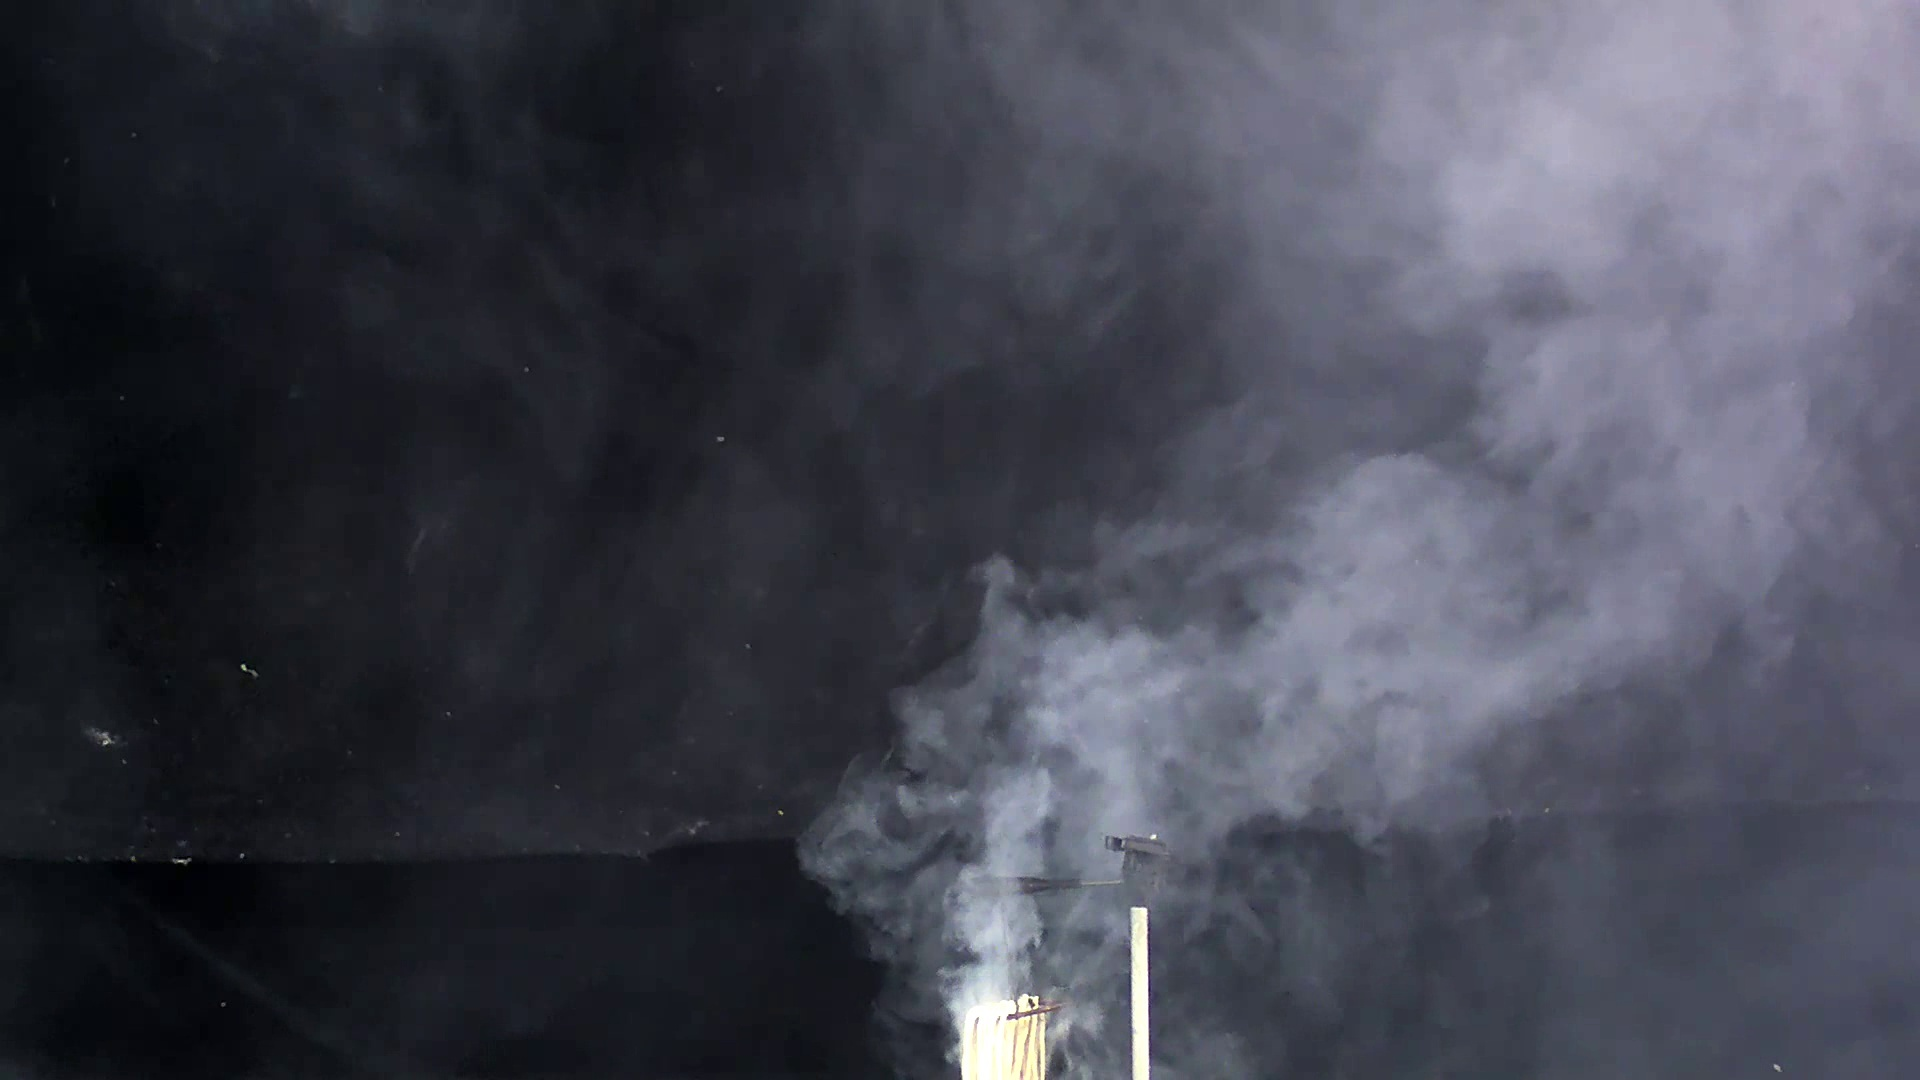smoke: (793, 61, 1869, 993)
